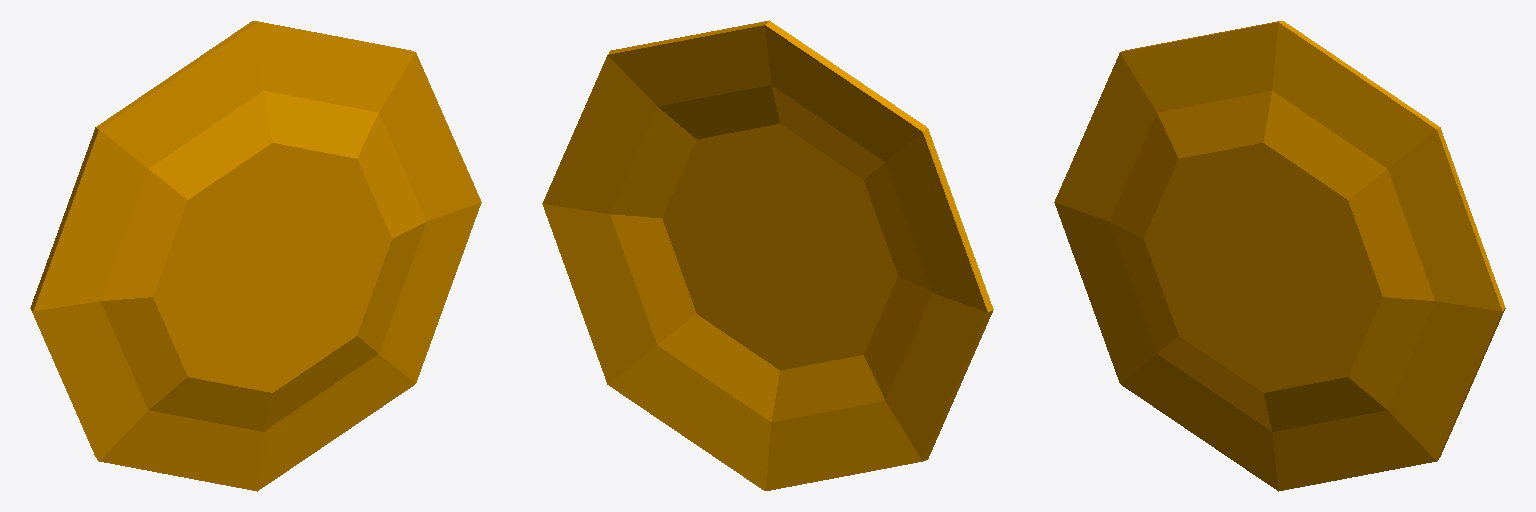
robot.urdf — Plate:
<robot name="Plate">
    <link name="plate">
        <visual>
            <geometry>
                <mesh filename="meshes/plate.obj"/>
            </geometry>
        </visual>
        <collision>
            <geometry>
                <mesh filename="meshes/plate.obj"/>
            </geometry>
        </collision>
    </link>
</robot>

--- What the picture shows (computed from the rendered views, not written in the file) ---
The picture shows the robot from 3 angles, left to right: view 1: azimuth 30°, elevation 25°; view 2: azimuth 150°, elevation 25°; view 3: azimuth 330°, elevation 25°; orthographic projection.
Model Plate with 1 links and 0 joints (none), rooted at plate, posed all joints at 0.
Links seen in each view (by area): view 1: plate; view 2: plate; view 3: plate.
Boxes of the visible links, <box> form: plate: <box>30,21,481,491</box>; plate: <box>542,20,993,490</box>; plate: <box>1054,21,1505,491</box>.
Size in the robot's own frame: 0.0405 by 0.003 by 0.0405 metres.
Meshes: 1 distinct files referenced, 1 mesh visuals loaded (1 OBJ).